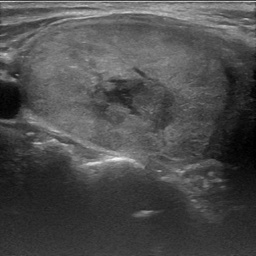mass: (25, 20, 229, 170)
